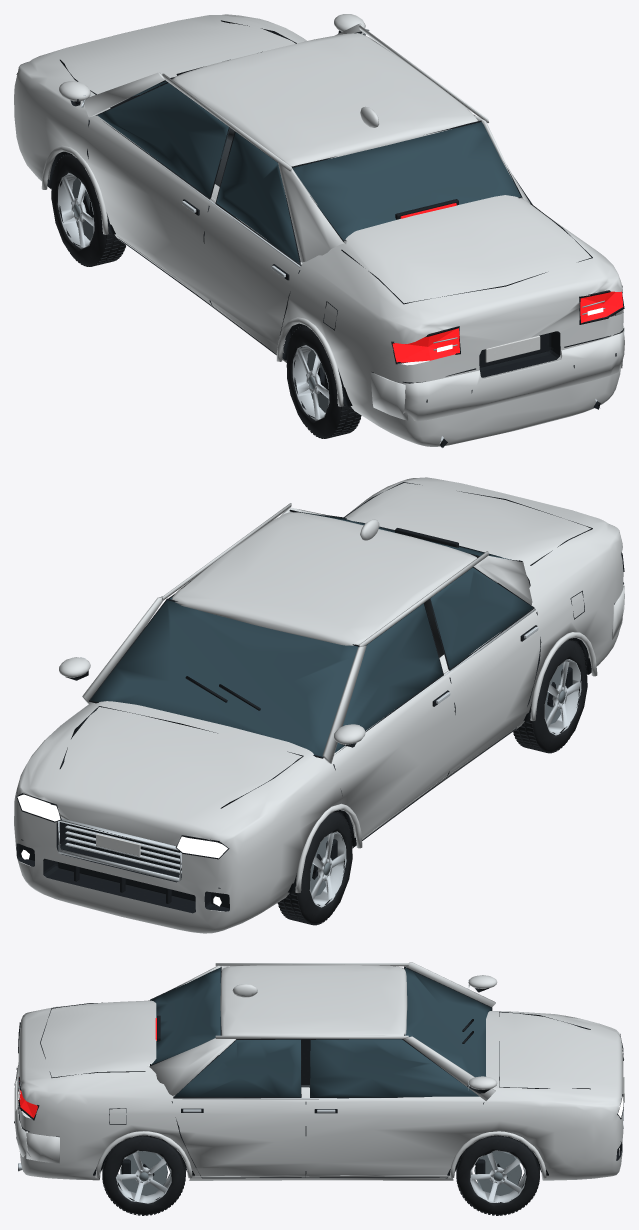
File: traffic-sedan-modern.glb
The picture shows the model from 3 angles, top to bottom: view 1: azimuth 30°, elevation 25°; view 2: azimuth 150°, elevation 25°; view 3: azimuth 270°, elevation 25°; orthographic projection. The views are drawn at different scales.
Parts seen in each view (by area): view 1: body-carpaint, body-glass.001, body-black.001, wheel2-rubber.001, wheel0-rubber.001, body-traffic-taillight, wheel2-chrome, wheel0-chrome, body-white, body-steel.001, body-chrome; view 2: body-carpaint, body-glass.001, body-black.001, body-chrome, wheel0-rubber.001, wheel2-rubber.001, wheel2-chrome, wheel0-chrome, body-traffic-headlight, body-steel.001; view 3: body-carpaint, body-glass.001, body-black.001, wheel3-rubber.001, wheel1-rubber.001, body-steel.001, wheel1-chrome, wheel3-chrome, body-chrome.
Part boxes in pixels (x1,y1,x2,y2): body-carpaint: (14,14,624,446); body-glass.001: (98,81,530,263); body-black.001: (16,20,624,447); wheel2-rubber.001: (286,325,361,438); wheel0-rubber.001: (51,153,125,266); body-traffic-taillight: (392,203,623,362); wheel2-chrome: (292,345,329,420); wheel0-chrome: (57,172,94,248); body-white: (485,335,540,362); body-steel.001: (71,178,328,412); body-chrome: (81,29,605,448); body-carpaint: (14,477,624,933); body-glass.001: (90,512,533,756); body-black.001: (16,482,624,913); body-chrome: (57,609,538,881); wheel0-rubber.001: (277,811,352,925); wheel2-rubber.001: (513,639,587,753); wheel2-chrome: (544,659,581,735); wheel0-chrome: (309,831,346,907); body-traffic-headlight: (17,794,227,906); body-steel.001: (310,664,563,896); body-carpaint: (14,962,623,1180); body-glass.001: (151,967,491,1097); body-black.001: (14,966,624,1180); wheel3-rubber.001: (102,1135,185,1215); wheel1-rubber.001: (456,1135,539,1215); body-steel.001: (120,1151,521,1195); wheel1-chrome: (470,1150,526,1202); wheel3-chrome: (116,1150,171,1203); body-chrome: (18,980,623,1171).
Size of the model in its own units: 2.09 by 1.65 by 4.9.
Materials: 10 (7 with a texture image).
